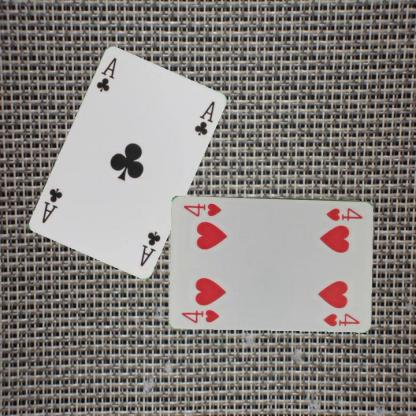4h: (179, 306, 221, 324), (324, 205, 364, 222)
Ac: (137, 228, 162, 268), (93, 54, 118, 93)
